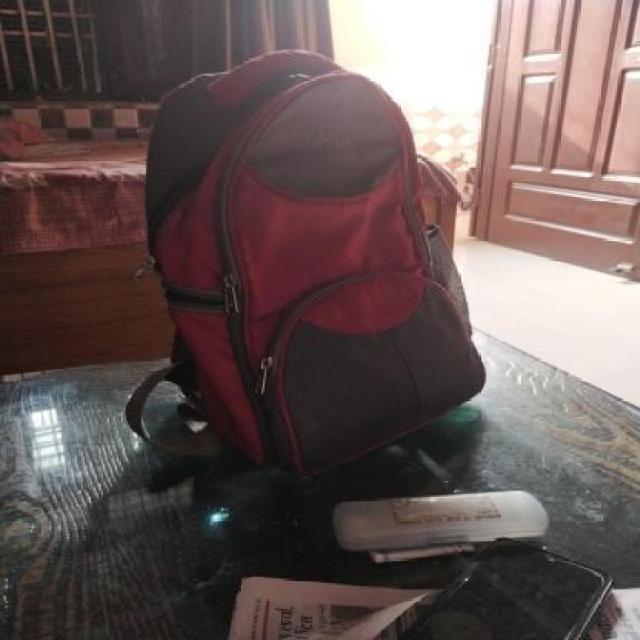backpack: (122, 43, 490, 483)
